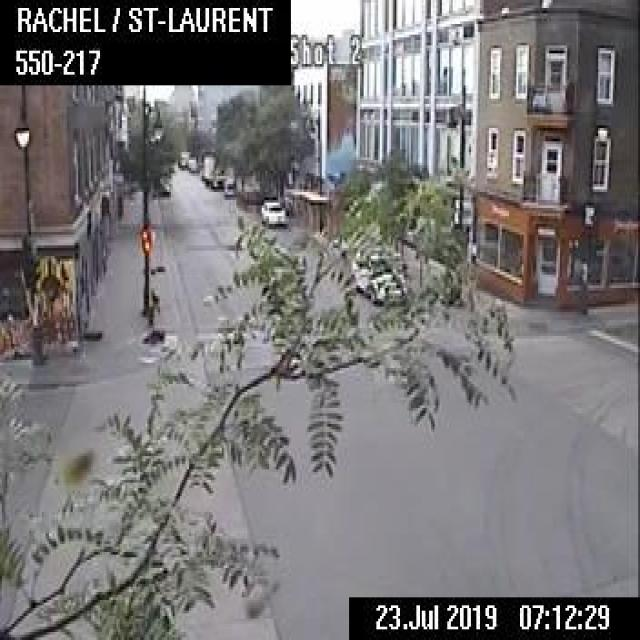vehicle: (352, 250, 407, 302), (260, 197, 286, 224), (210, 168, 226, 188), (223, 176, 234, 194)
